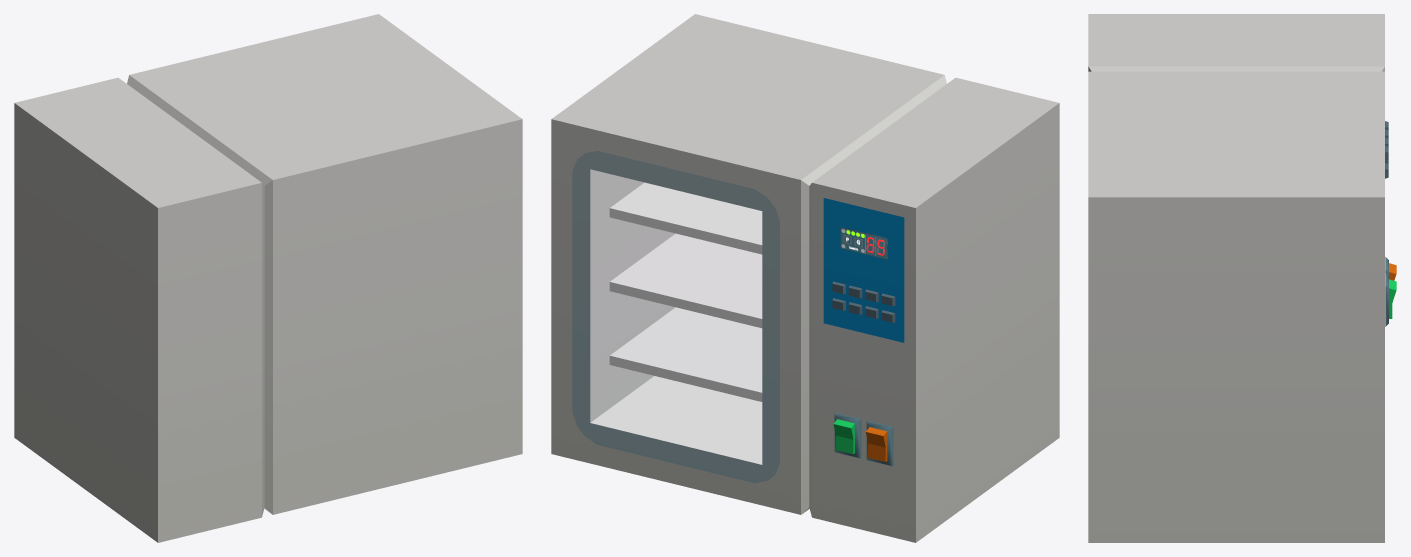
The model's file is Sterilizer.fbx.
3 renders of one model, left to right at view 1: azimuth 30°, elevation 25°; view 2: azimuth 150°, elevation 25°; view 3: azimuth 270°, elevation 25°, orthographic. The views are drawn at different scales.
Parts seen in each view (by area): view 1: Color; view 2: Color, Metal, Monitors; view 3: Color.
Part boxes in pixels (x1,y1,x2,y2): Color: (14,14,522,542); Color: (551,14,1059,542); Metal: (590,169,762,464); Monitors: (840,227,887,259); Color: (1088,14,1396,542).
Size of the model in its own units: 0.41 by 0.36 by 0.2909.
3 materials, 3 textured.
